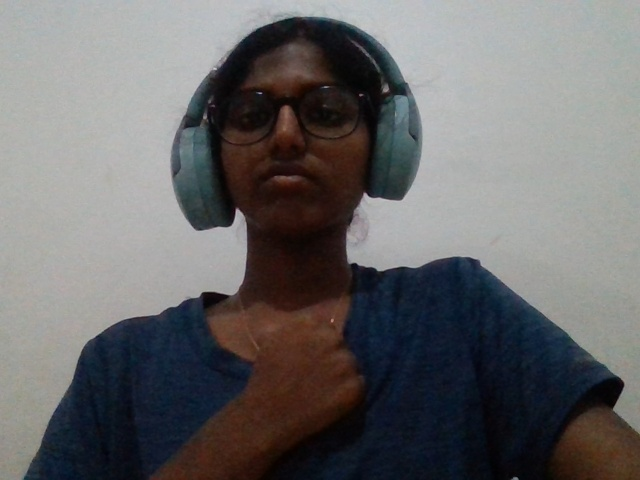Sorry: (209, 302, 425, 457)
